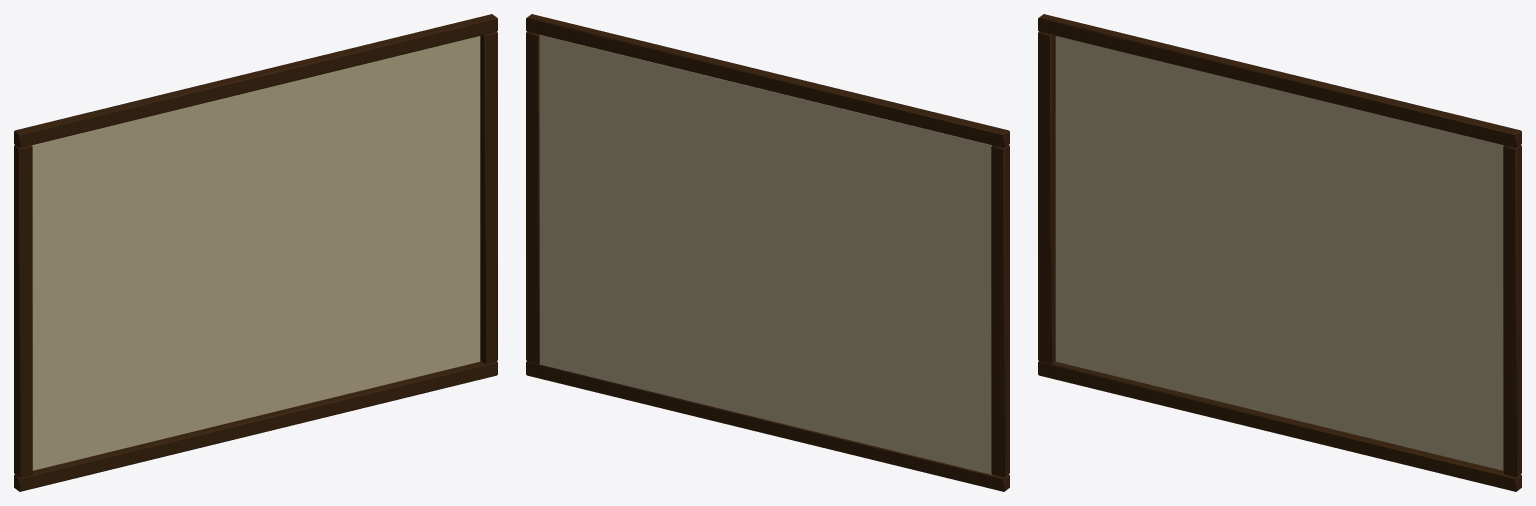
The model's file is school-chart-board.glb.
3 renders of one model, left to right at view 1: azimuth 30°, elevation 25°; view 2: azimuth 150°, elevation 25°; view 3: azimuth 330°, elevation 25°, orthographic.
Parts seen in each view (by area): view 1: chart__paper, frame__wood; view 2: chart__paper, frame__wood; view 3: chart__paper, frame__wood.
Boxes of the visible parts, bbox=[...] form: chart__paper: bbox=[32, 36, 480, 470]; frame__wood: bbox=[14, 14, 497, 491]; chart__paper: bbox=[539, 35, 991, 474]; frame__wood: bbox=[526, 14, 1009, 491]; chart__paper: bbox=[1055, 36, 1503, 470]; frame__wood: bbox=[1038, 14, 1521, 491].
Size of the model in its own units: 1.4 by 1 by 0.03.
